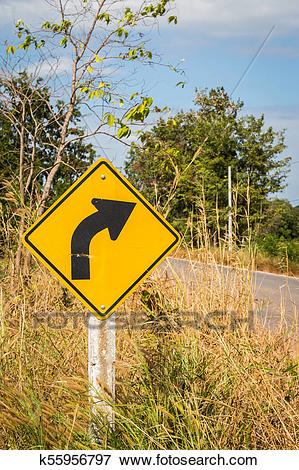right: (18, 157, 186, 319)
